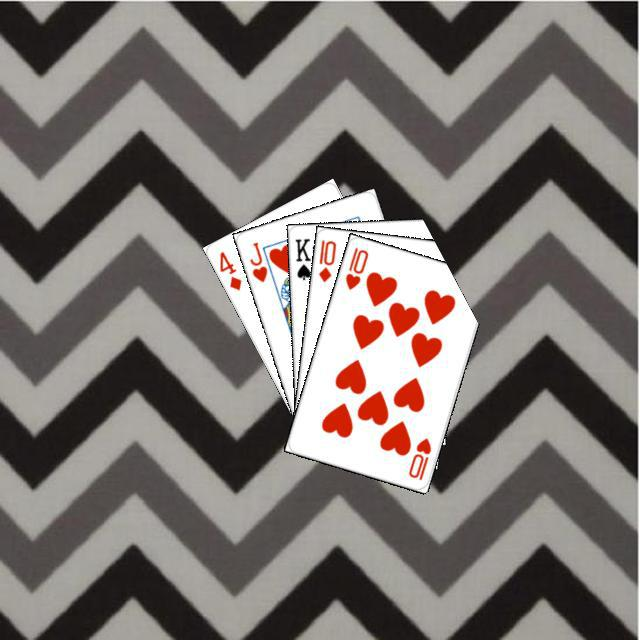10d: (313, 235, 338, 284)
10h: (340, 242, 370, 291), (403, 433, 433, 482)
4d: (214, 246, 243, 292)
Jh: (245, 237, 269, 284)
Ks: (290, 233, 312, 281)
